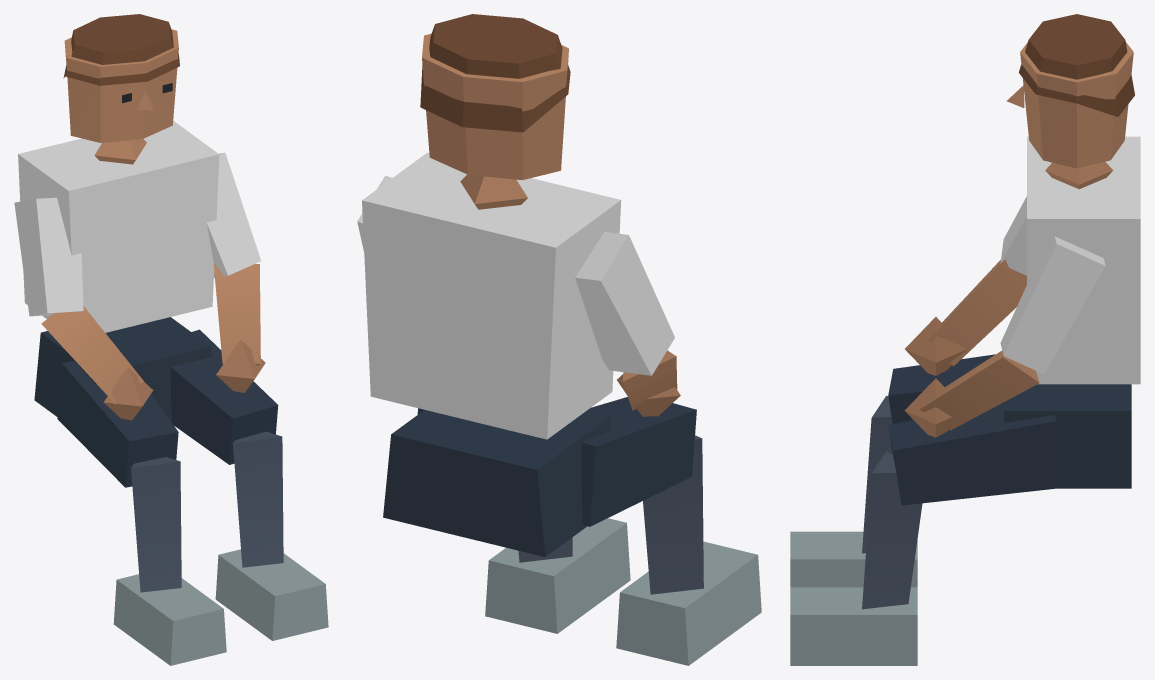
The model's file is fan-03.glb.
The picture shows the model from 3 angles, left to right: view 1: azimuth 30°, elevation 25°; view 2: azimuth 150°, elevation 25°; view 3: azimuth 270°, elevation 25°; orthographic projection. The views are drawn at different scales.
Visible parts, largest first — view 1: fan-03; view 2: fan-03; view 3: fan-03.
Part boxes in pixels (x1=…): fan-03: x1=14, y1=14, x2=328, y2=665; fan-03: x1=357, y1=14, x2=761, y2=665; fan-03: x1=790, y1=14, x2=1140, y2=665.
Bounding box in the file's own units: 0.619 × 1.41 × 0.77.
